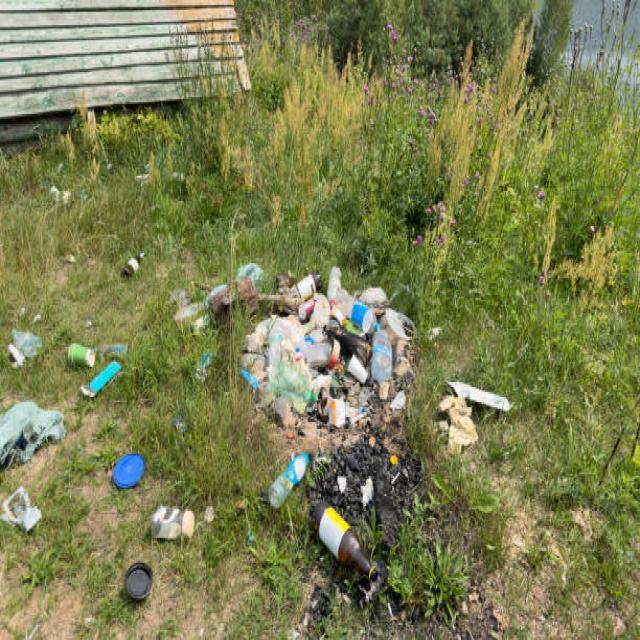glass: (317, 506, 372, 580)
plastic: (271, 306, 389, 406), (67, 340, 117, 397), (267, 449, 305, 508), (111, 452, 145, 490), (122, 560, 152, 602)
